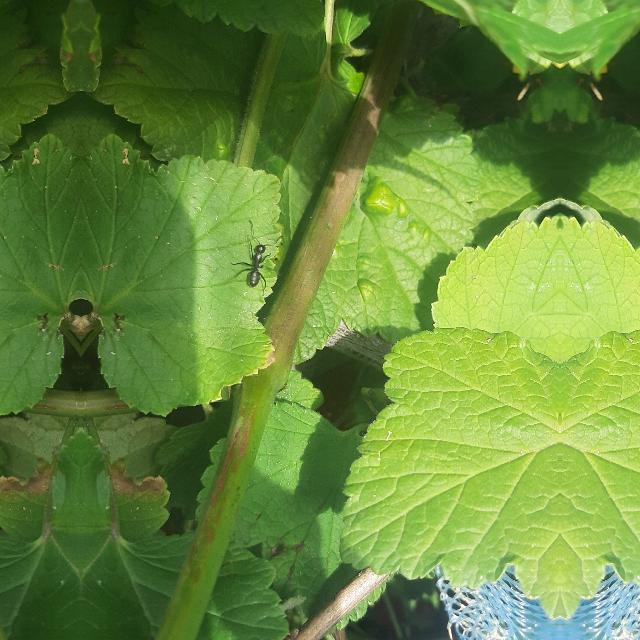Camponotus: (232, 231, 286, 299)
